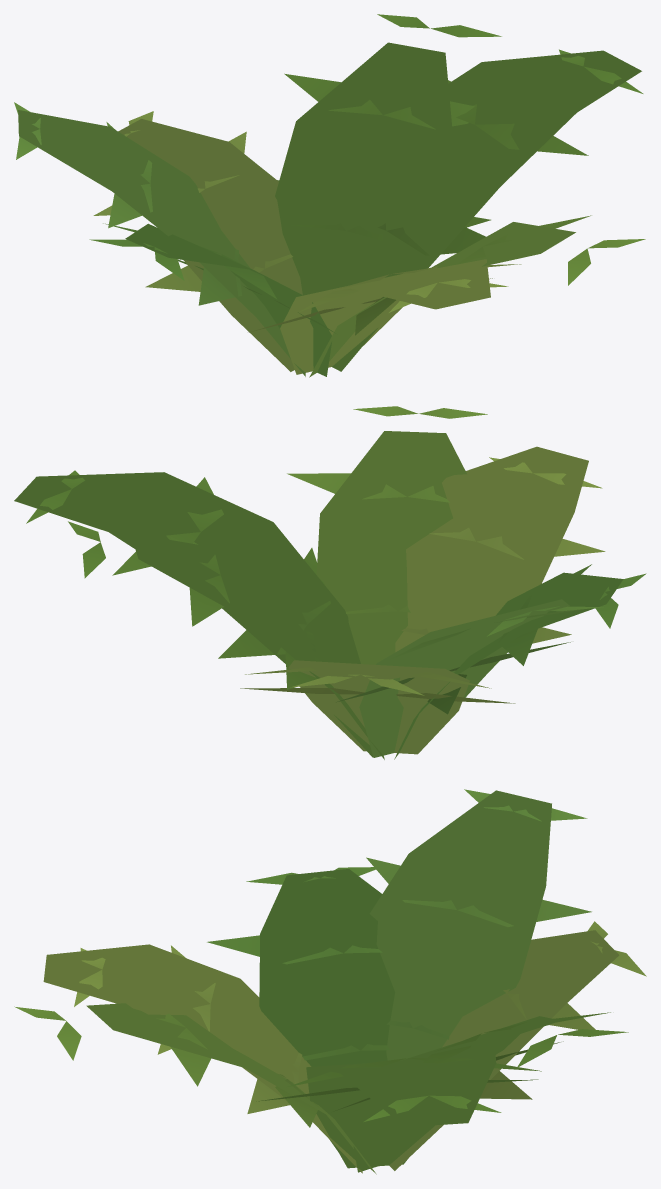
File: fern-bracken-b.lod2.glb
3 renders of one model, top to bottom at view 1: azimuth 30°, elevation 25°; view 2: azimuth 150°, elevation 25°; view 3: azimuth 270°, elevation 25°, orthographic. The views are drawn at different scales.
Visible parts, largest first — view 1: fern-bracken-b.lod2; view 2: fern-bracken-b.lod2; view 3: fern-bracken-b.lod2.
Part boxes in pixels (x1=…): fern-bracken-b.lod2: x1=14, y1=14, x2=645, y2=377; fern-bracken-b.lod2: x1=14, y1=406, x2=646, y2=759; fern-bracken-b.lod2: x1=14, y1=789, x2=646, y2=1174.
Bounding box in the file's own units: 2 × 0.7825 × 1.78.
